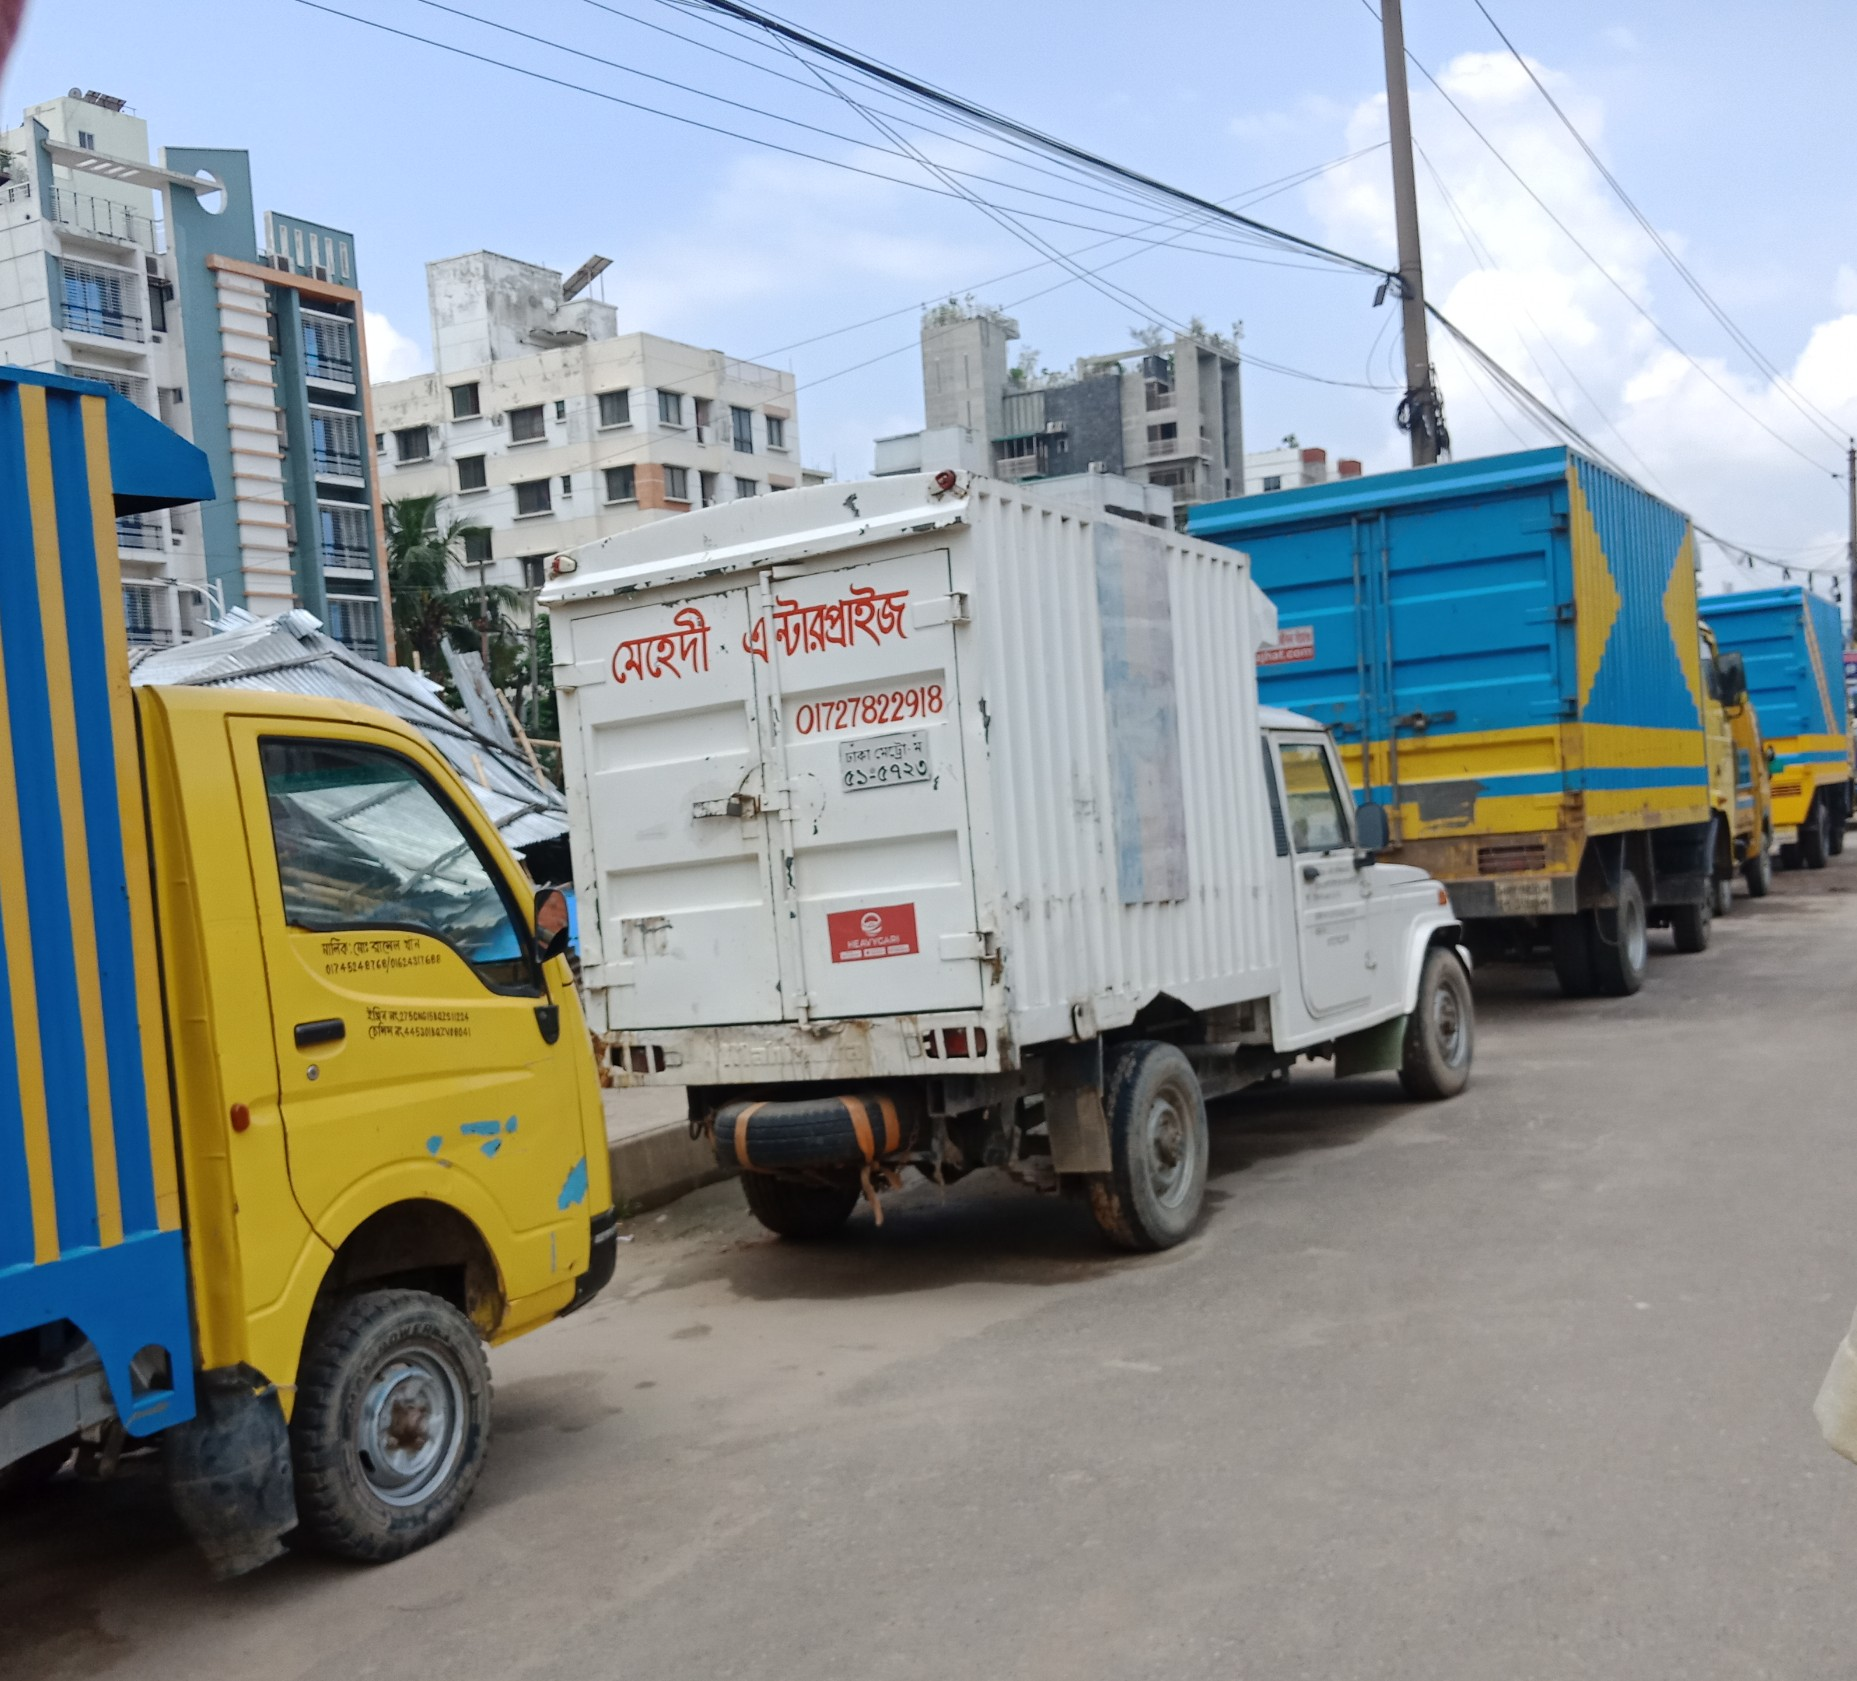truck: (518, 464, 1490, 1252), (3, 349, 628, 1560), (1187, 443, 1745, 990), (1710, 565, 1855, 861)
